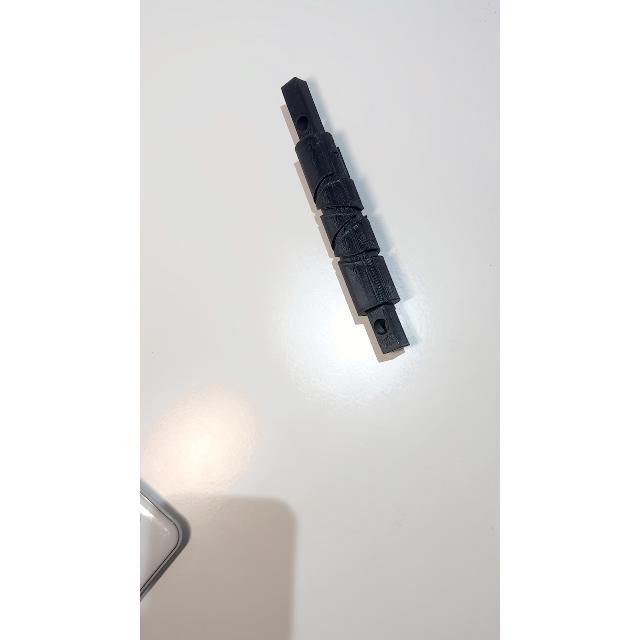Pieza_1: (270, 68, 428, 370)
